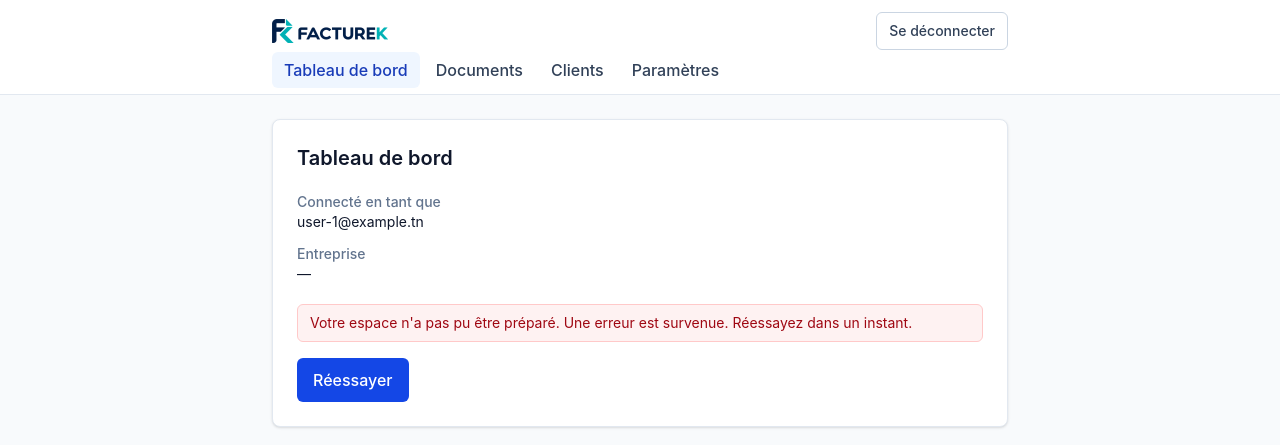
Scenario: when the account cannot be prepared › retries when the button is pressed and recovers
Click the button "Réessayer". click: (353, 380)
box: [297,358,408,402]
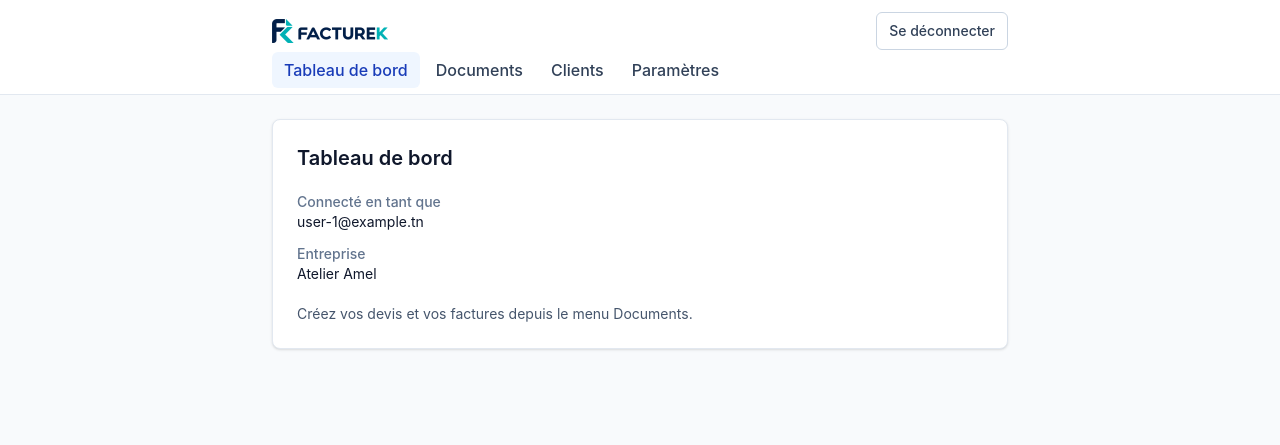
Result: the text "Atelier Amel" is shown at [297,265,377,282]
Result: the message is gone
